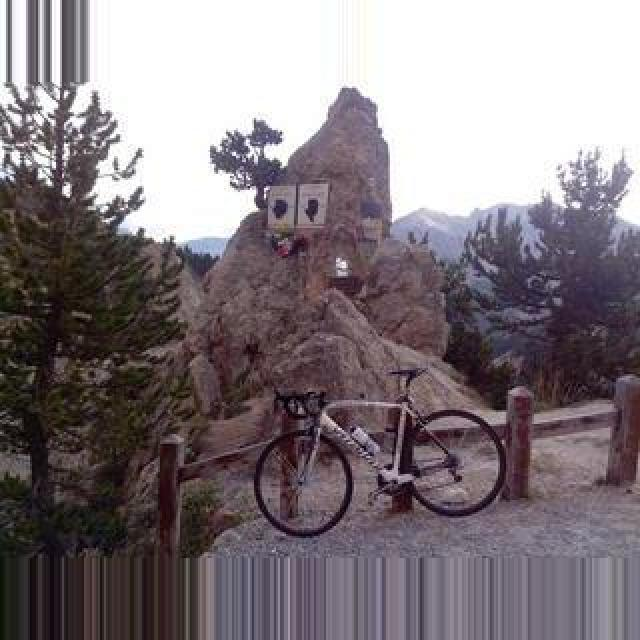Person: (251, 369, 507, 537)
